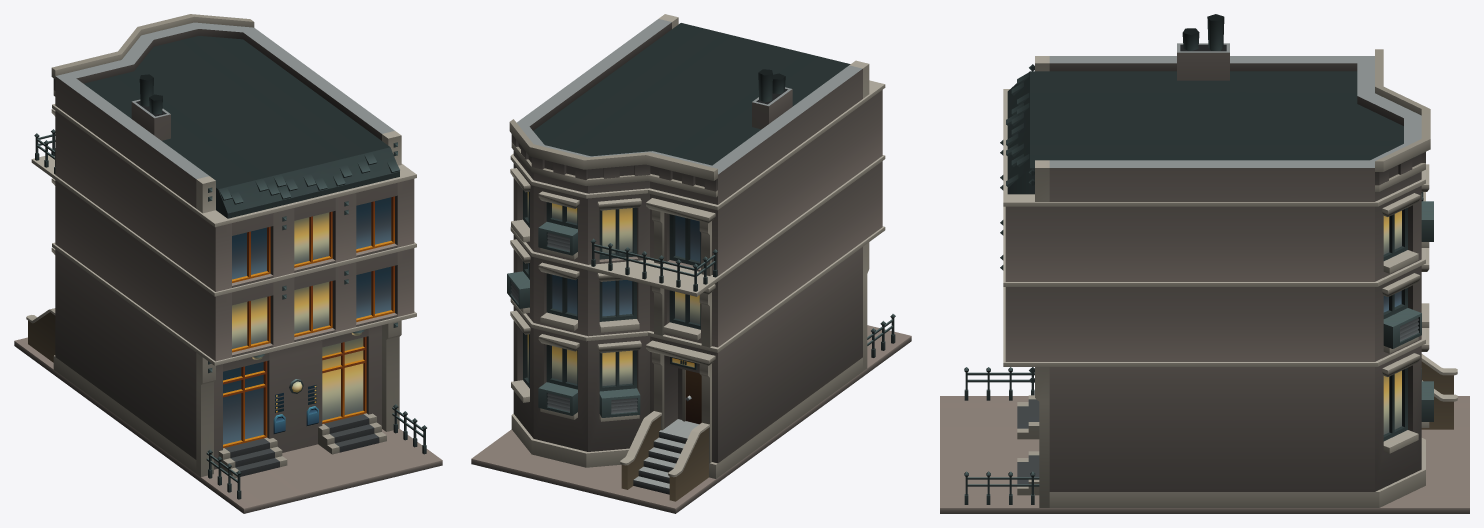
File: Brownstone_4A.fbx
The picture shows the model from 3 angles, left to right: view 1: azimuth 30°, elevation 25°; view 2: azimuth 150°, elevation 25°; view 3: azimuth 270°, elevation 25°; orthographic projection. The views are drawn at different scales.
Visible parts, largest first — view 1: Brownstone_4A, Brownstone_4A_Window_Lights; view 2: Brownstone_4A, Brownstone_4A_Window_Lights; view 3: Brownstone_4A, Brownstone_4A_Window_Lights.
Part boxes in pixels (x1,y1,x2,y2): Brownstone_4A: (14,14,442,513); Brownstone_4A_Window_Lights: (232,212,363,420); Brownstone_4A: (471,14,911,513); Brownstone_4A_Window_Lights: (527,192,700,385); Brownstone_4A: (940,14,1469,513); Brownstone_4A_Window_Lights: (1383,210,1401,434).
Bounding box in the file's own units: 12.2 × 19.83 × 24.
